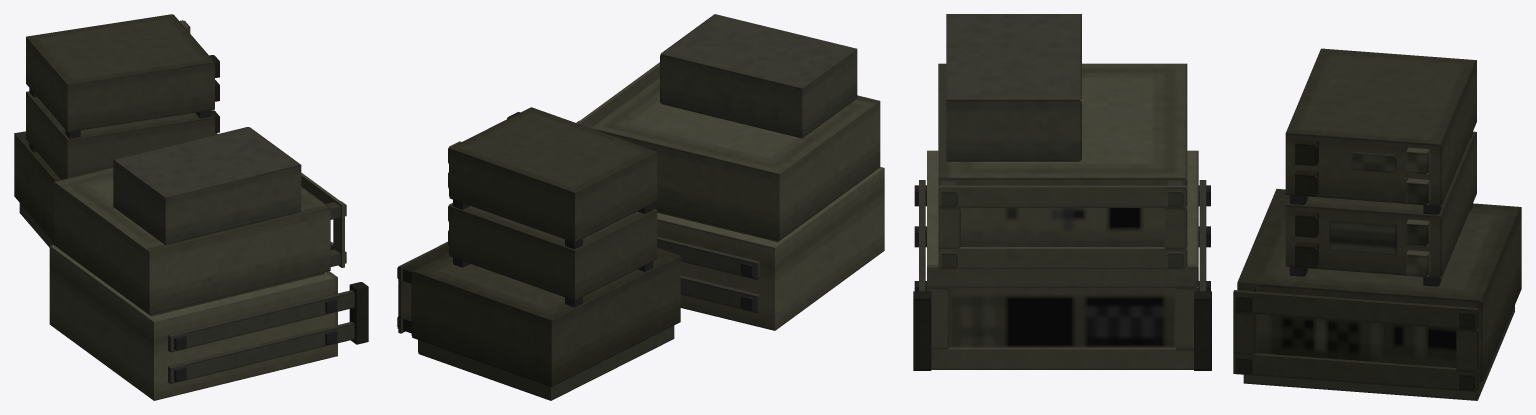
File: military_radio_off.obj
3 views of the same model, side by side, from view 1: azimuth 30°, elevation 25°; view 2: azimuth 150°, elevation 25°; view 3: azimuth 270°, elevation 25° (orthographic). The views are drawn at different scales.
Visible parts, largest first — view 1: yourclassnameModel19, yourclassnameModel0, yourclassnameModel47, yourclassnameModel29, yourclassnameModel40, yourclassnameModel7, yourclassnameModel10, yourclassnameModel33, yourclassnameModel8, yourclassnameModel20, yourclassnameModel28, yourclassnameModel23 (+1 smaller); view 2: yourclassnameModel19, yourclassnameModel33, yourclassnameModel47, yourclassnameModel29, yourclassnameModel0, yourclassnameModel40, yourclassnameModel38, yourclassnameModel5, yourclassnameModel9, yourclassnameModel20, yourclassnameModel31, yourclassnameModel39; view 3: yourclassnameModel19, yourclassnameModel33, yourclassnameModel47, yourclassnameModel29, yourclassnameModel0, yourclassnameModel40, yourclassnameModel2, yourclassnameModel20, yourclassnameModel1, yourclassnameModel31, yourclassnameModel21, yourclassnameModel34 (+21 smaller).
Part boxes in pixels (x1,y1,x2,y2): yourclassnameModel19: [54, 167, 330, 314]; yourclassnameModel0: [49, 244, 334, 400]; yourclassnameModel47: [26, 14, 214, 132]; yourclassnameModel29: [113, 127, 301, 244]; yourclassnameModel40: [26, 91, 214, 179]; yourclassnameModel7: [168, 290, 354, 352]; yourclassnameModel10: [168, 322, 354, 383]; yourclassnameModel33: [14, 131, 60, 241]; yourclassnameModel8: [349, 282, 368, 344]; yourclassnameModel20: [301, 173, 344, 220]; yourclassnameModel28: [60, 249, 324, 316]; yourclassnameModel23: [333, 218, 344, 252]; yourclassnameModel19: [591, 77, 880, 240]; yourclassnameModel33: [411, 247, 680, 386]; yourclassnameModel47: [449, 107, 657, 242]; yourclassnameModel29: [660, 14, 857, 138]; yourclassnameModel0: [657, 167, 884, 330]; yourclassnameModel40: [449, 204, 657, 300]; yourclassnameModel38: [418, 325, 674, 400]; yourclassnameModel5: [657, 236, 760, 279]; yourclassnameModel9: [680, 275, 760, 312]; yourclassnameModel20: [577, 62, 659, 124]; yourclassnameModel31: [398, 241, 448, 283]; yourclassnameModel39: [398, 282, 411, 316]; yourclassnameModel19: [938, 63, 1187, 246]; yourclassnameModel33: [1237, 188, 1521, 383]; yourclassnameModel47: [1285, 48, 1476, 206]; yourclassnameModel29: [946, 14, 1081, 161]; yourclassnameModel0: [927, 150, 1198, 347]; yourclassnameModel40: [1285, 131, 1476, 278]; yourclassnameModel2: [931, 347, 1193, 369]; yourclassnameModel20: [938, 185, 1187, 207]; yourclassnameModel1: [927, 265, 1198, 287]; yourclassnameModel31: [1233, 290, 1479, 330]; yourclassnameModel21: [938, 247, 1187, 269]; yourclassnameModel34: [1233, 353, 1479, 392].
Bounding box in the file's own units: 1.05 × 0.7656 × 1.68.
Materials: 1 (1 with a texture image).
